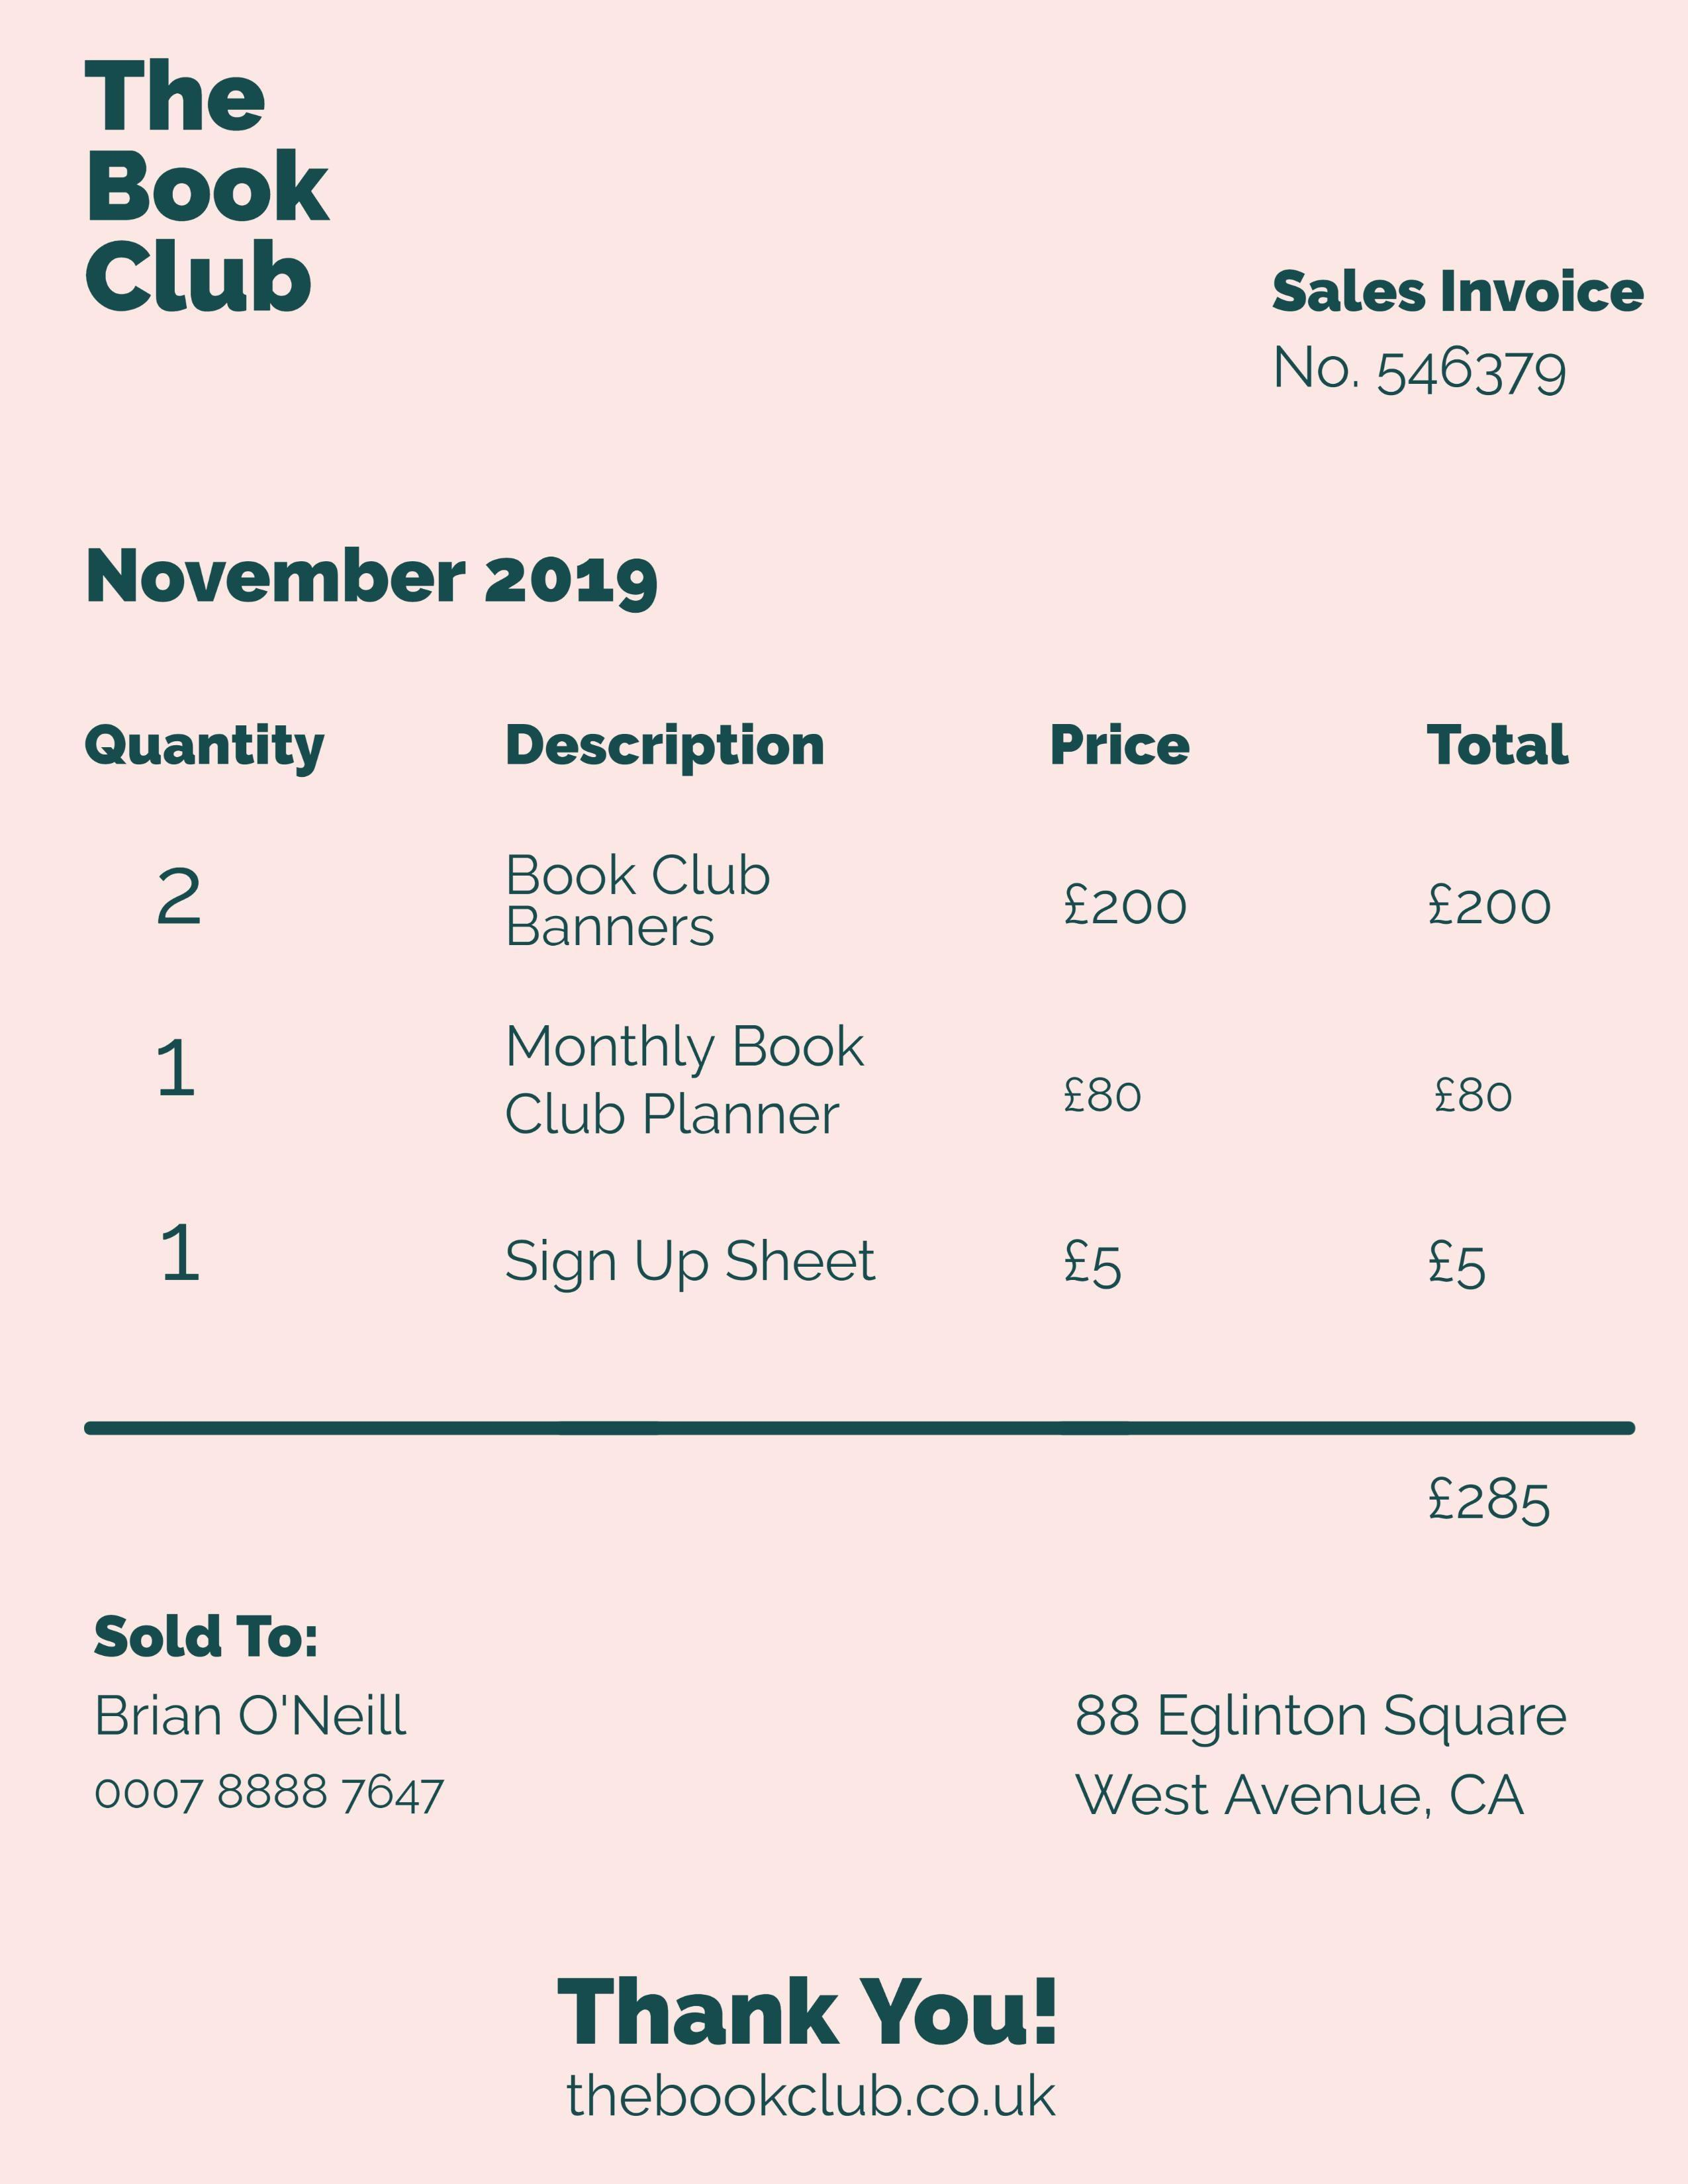ROI: (73, 688, 1635, 1423), (73, 1592, 496, 1844), (1241, 236, 1688, 424), (66, 37, 337, 328), (1374, 1466, 1585, 1535)
